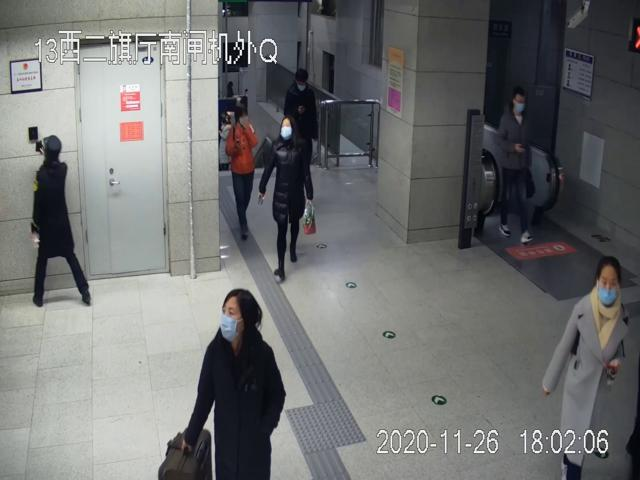person: (181, 287, 286, 480), (541, 255, 630, 480), (29, 135, 97, 307), (258, 115, 319, 283), (496, 88, 539, 244), (225, 108, 259, 239)
